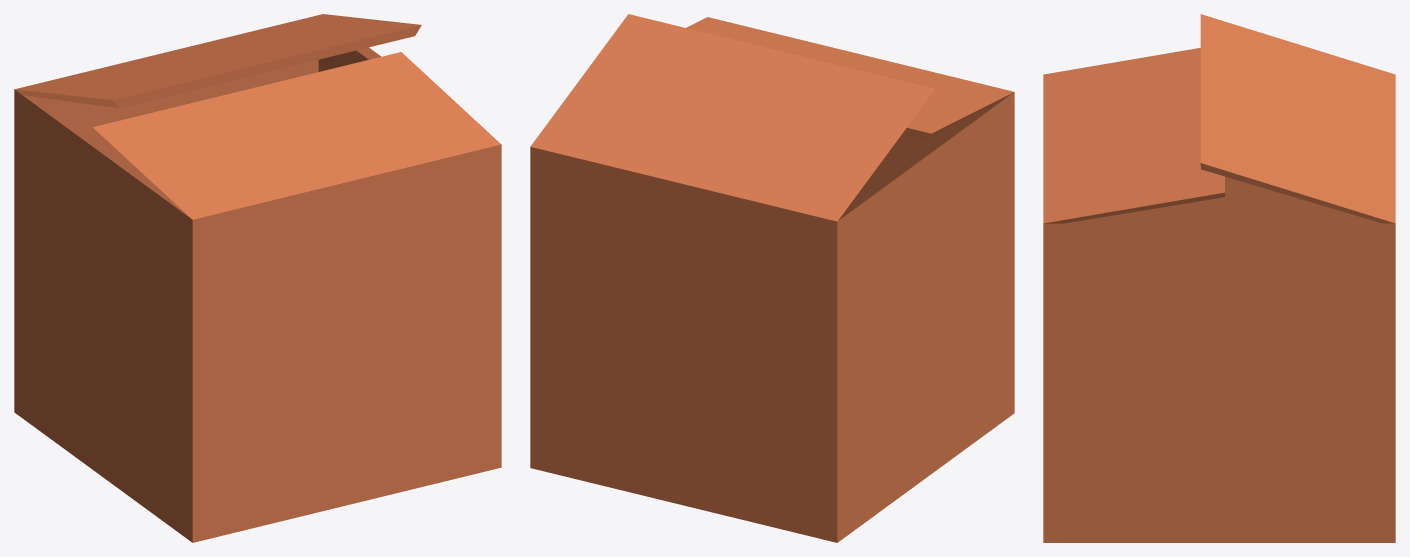
Rendered from OpenBox.fbx.
3 views of the same model, side by side, from view 1: azimuth 30°, elevation 25°; view 2: azimuth 150°, elevation 25°; view 3: azimuth 270°, elevation 25° (orthographic).
Parts seen in each view (by area): view 1: OpenBox; view 2: OpenBox; view 3: OpenBox.
Boxes of the visible parts, x1,y1,x2,y2 form: OpenBox: (14,14,501,542); OpenBox: (530,14,1014,542); OpenBox: (1043,14,1395,542).
Size of the model in its own units: 40.76 by 47.23 by 39.7.
